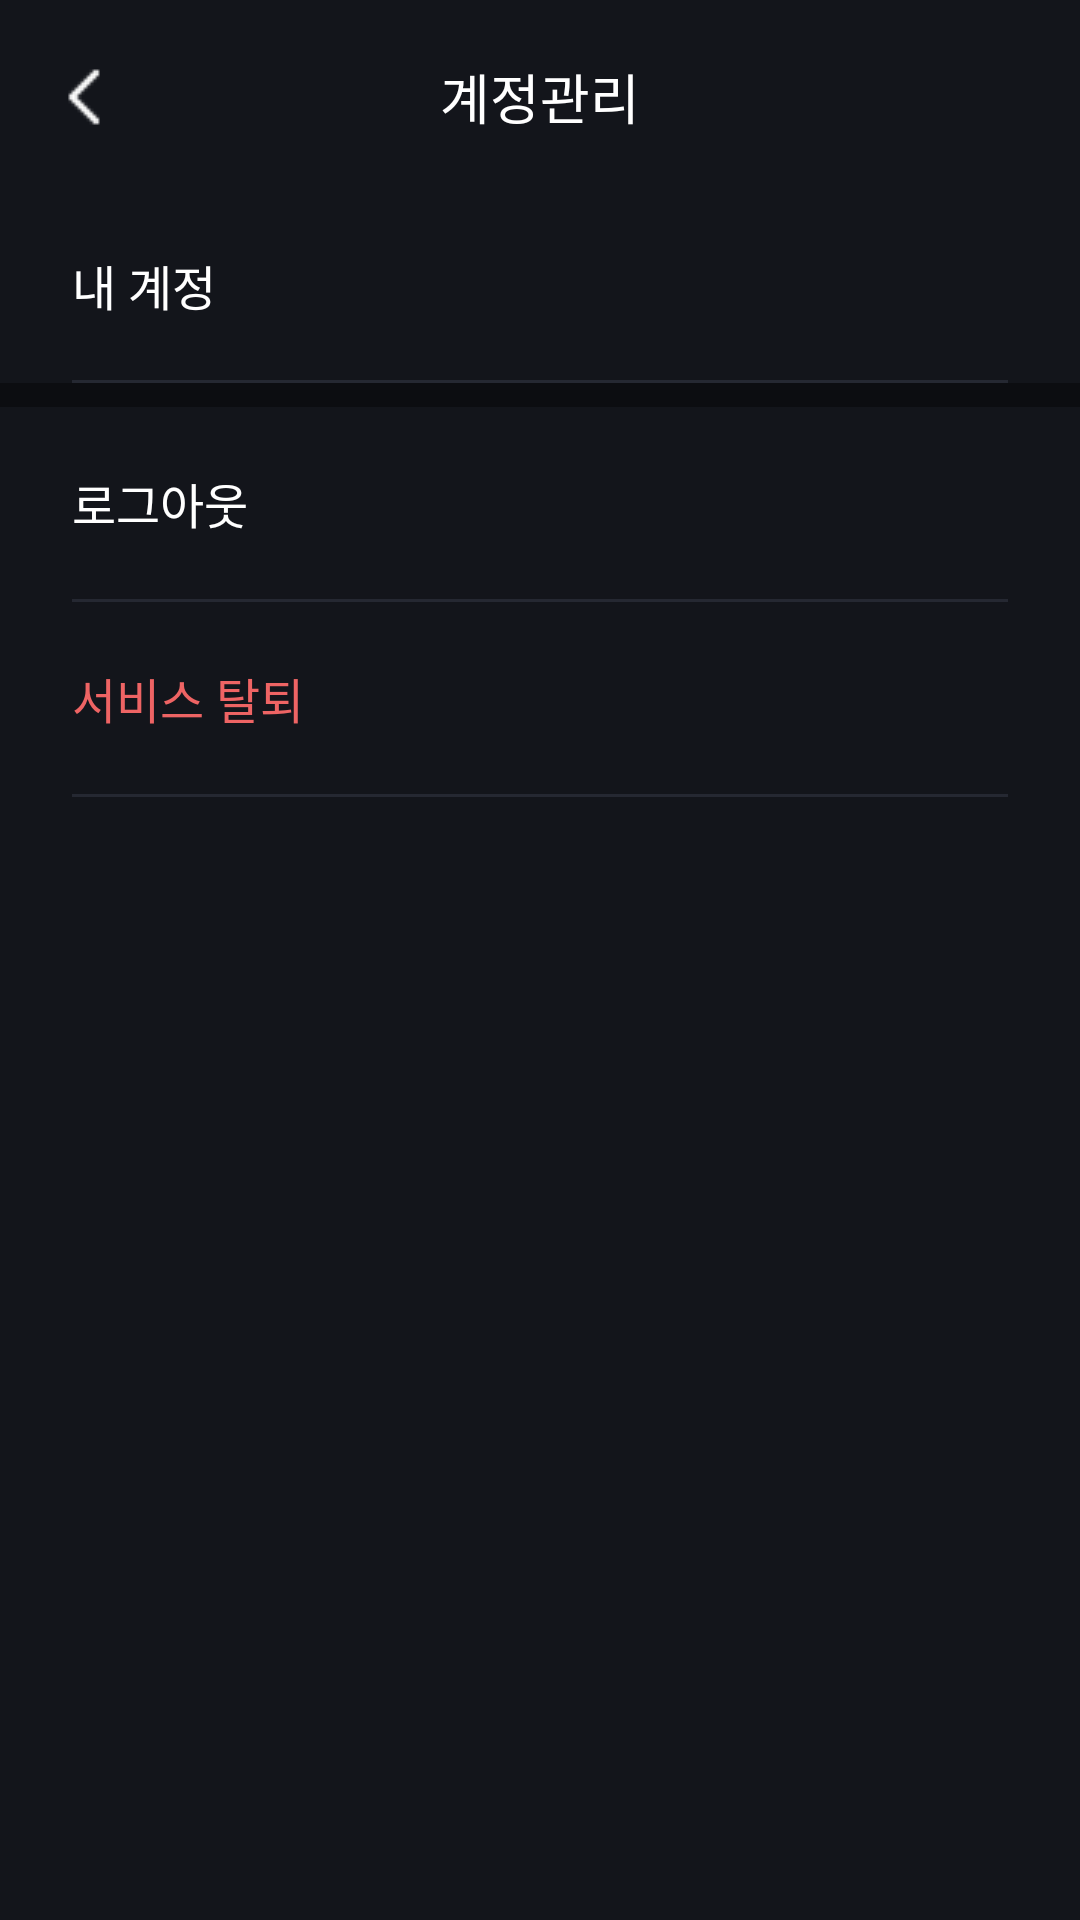

Point at icon controls on the screen. Image size 1080w x 1920h, points as (x,y).
back left: (84,97)
